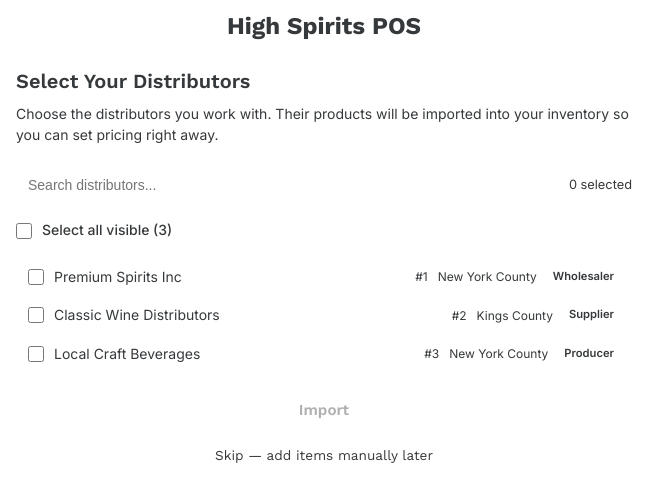
Test: DistributorOnboardingScreen › allows selecting multiple distributors
Expected: the text "Premium Spirits Inc" is shown, x1=54 y1=268 x2=182 y2=285
Step 1. Click the checkbox labelled "Premium Spirits Inc #1 New York County Wholesaler" → {"x": 36, "y": 277}, box x1=28 y1=269 x2=44 y2=285
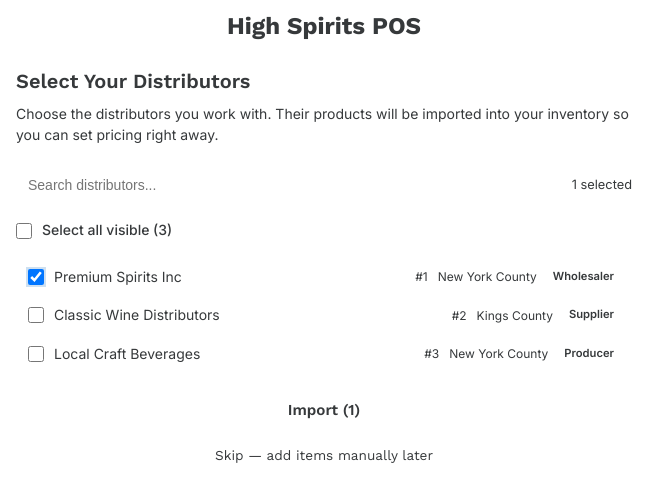
Step 2. Click the checkbox labelled "Classic Wine Distributors #2 Kings County Supplier" → {"x": 36, "y": 315}, box x1=28 y1=307 x2=44 y2=323
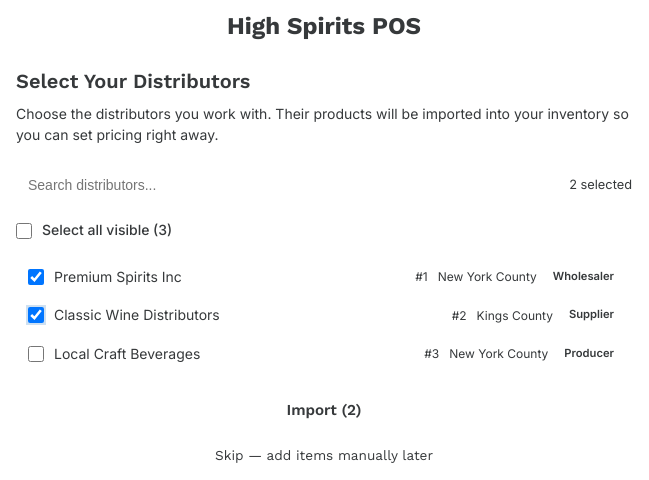
Now the button "Import (2)" is shown, box x1=16 y1=389 x2=632 y2=431
